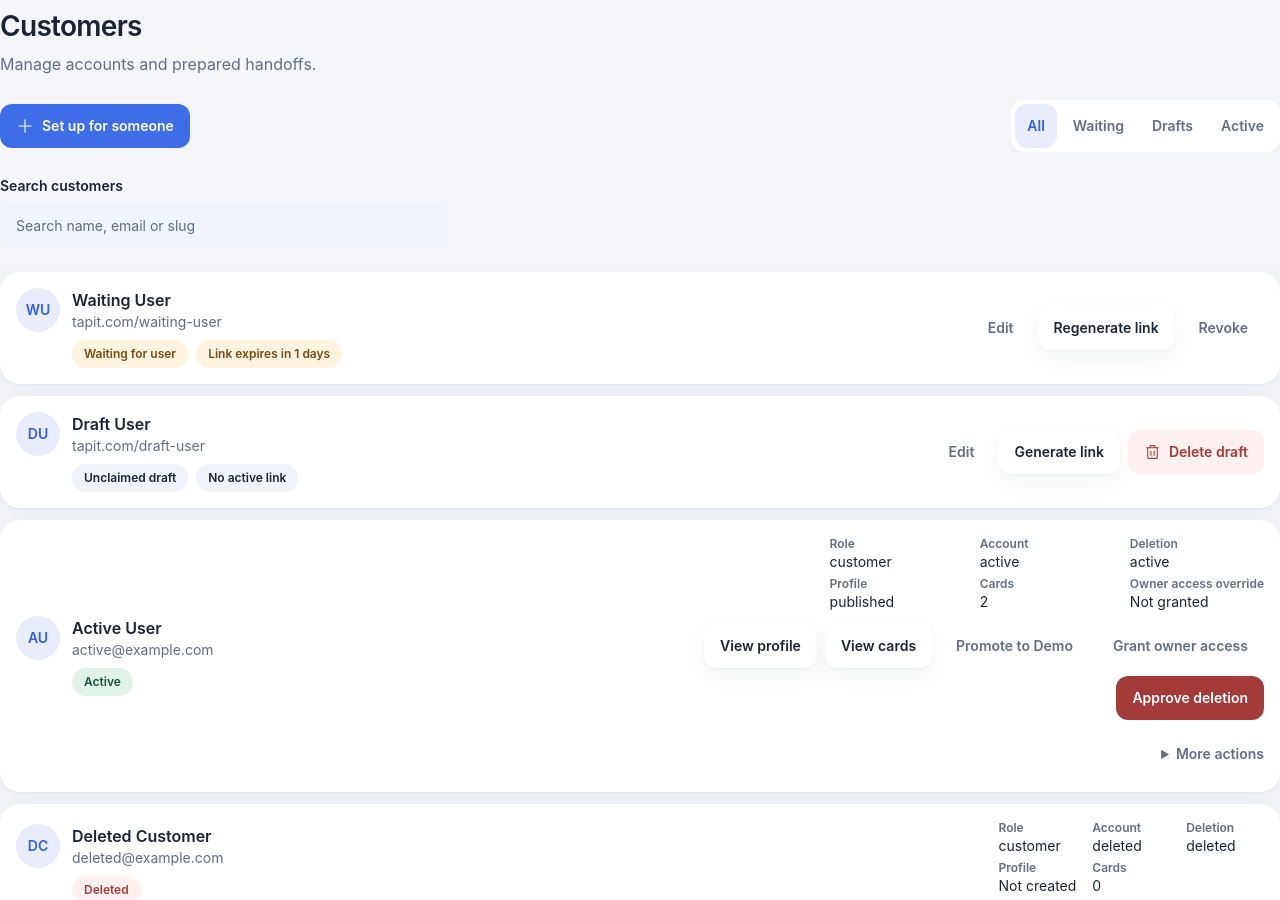
Test: prepared admin interactions › applies waiting, draft, all, and search to the shared list
The width and height of the screenshot is (1280, 900).
Click the button "Waiting" at (1098, 126), box [1061, 104, 1136, 148]
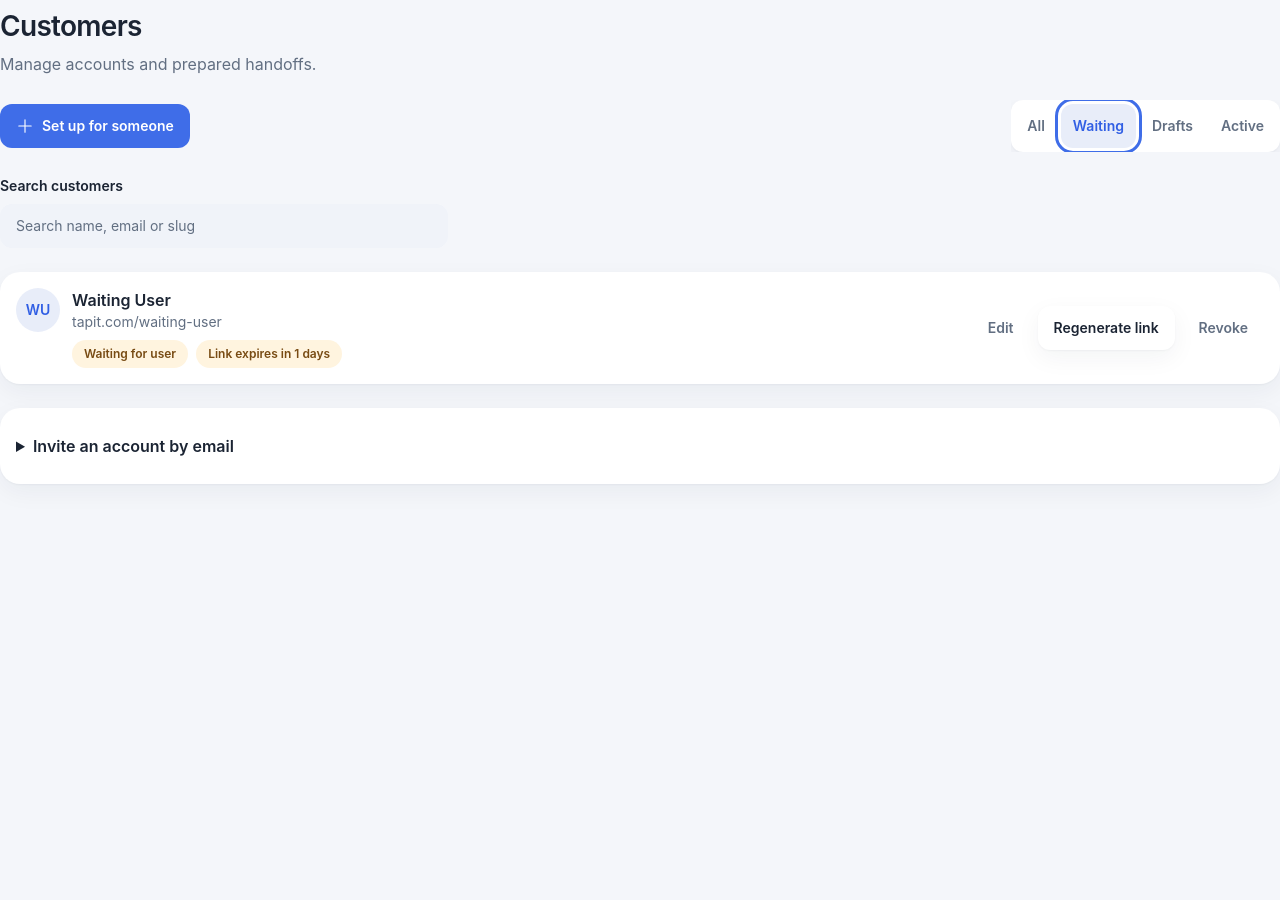
expect the text "Waiting User" is shown: met, box [72, 290, 171, 310]
expect the text "Draft User" is gone: met
Click the button "Drafts" at (1172, 126), box [1140, 104, 1205, 148]
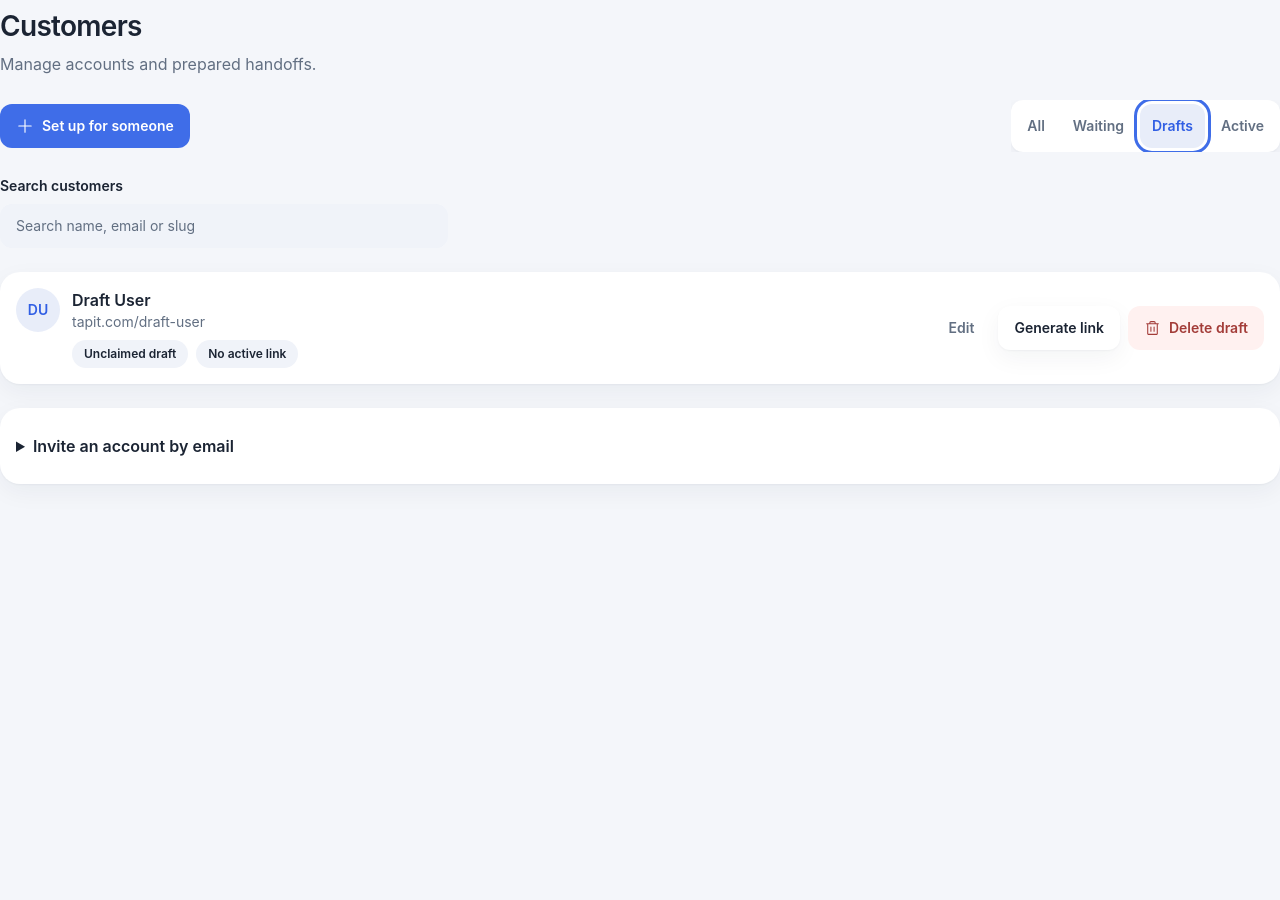
expect the text "Active User" is not shown: met
expect the text "Draft User" is shown: met, box [72, 290, 151, 310]
Click the button "All" at (1036, 126), box [1015, 104, 1057, 148]
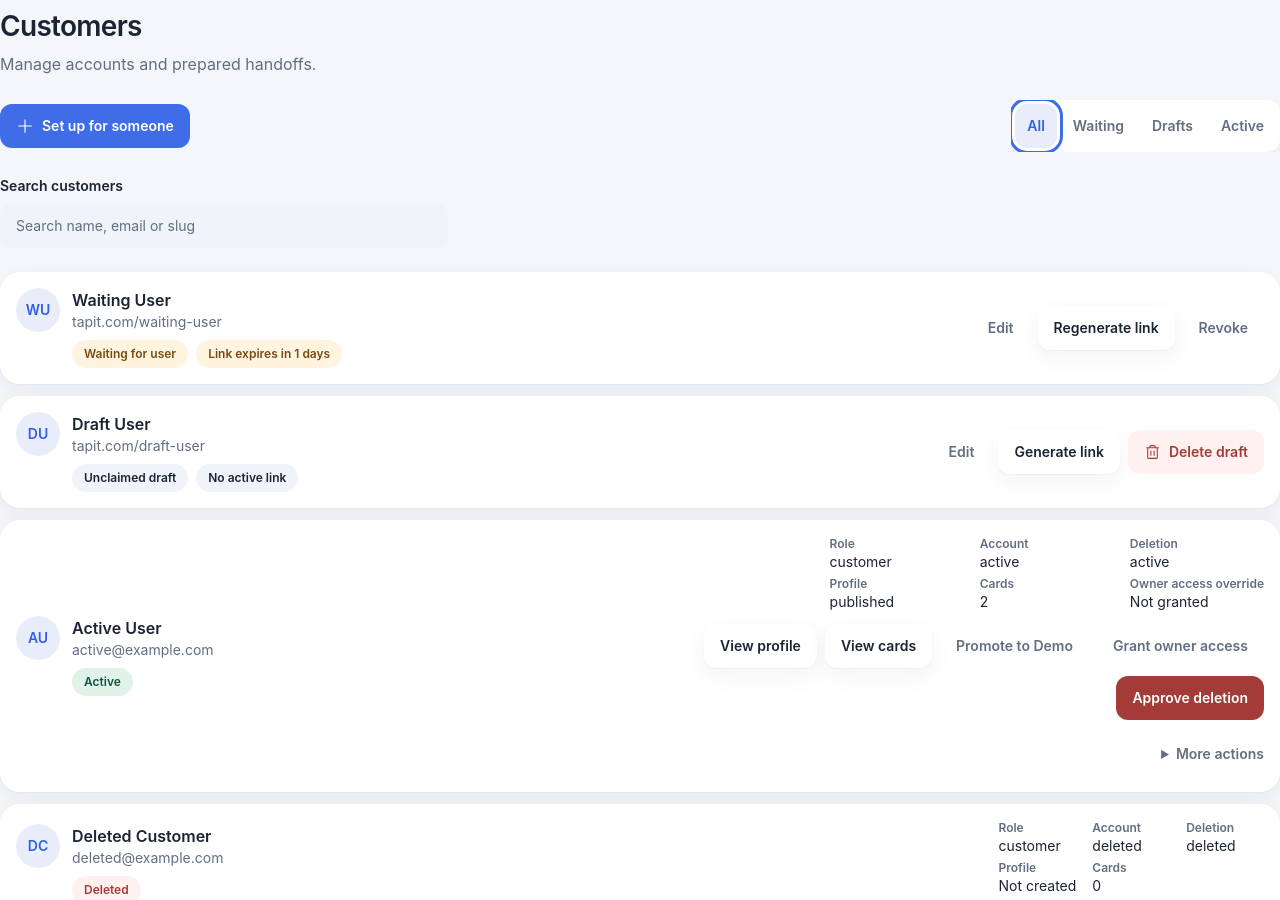
Type "ACTIVE@EXAMPLE" into the search field at (224, 226), box [0, 204, 448, 248]
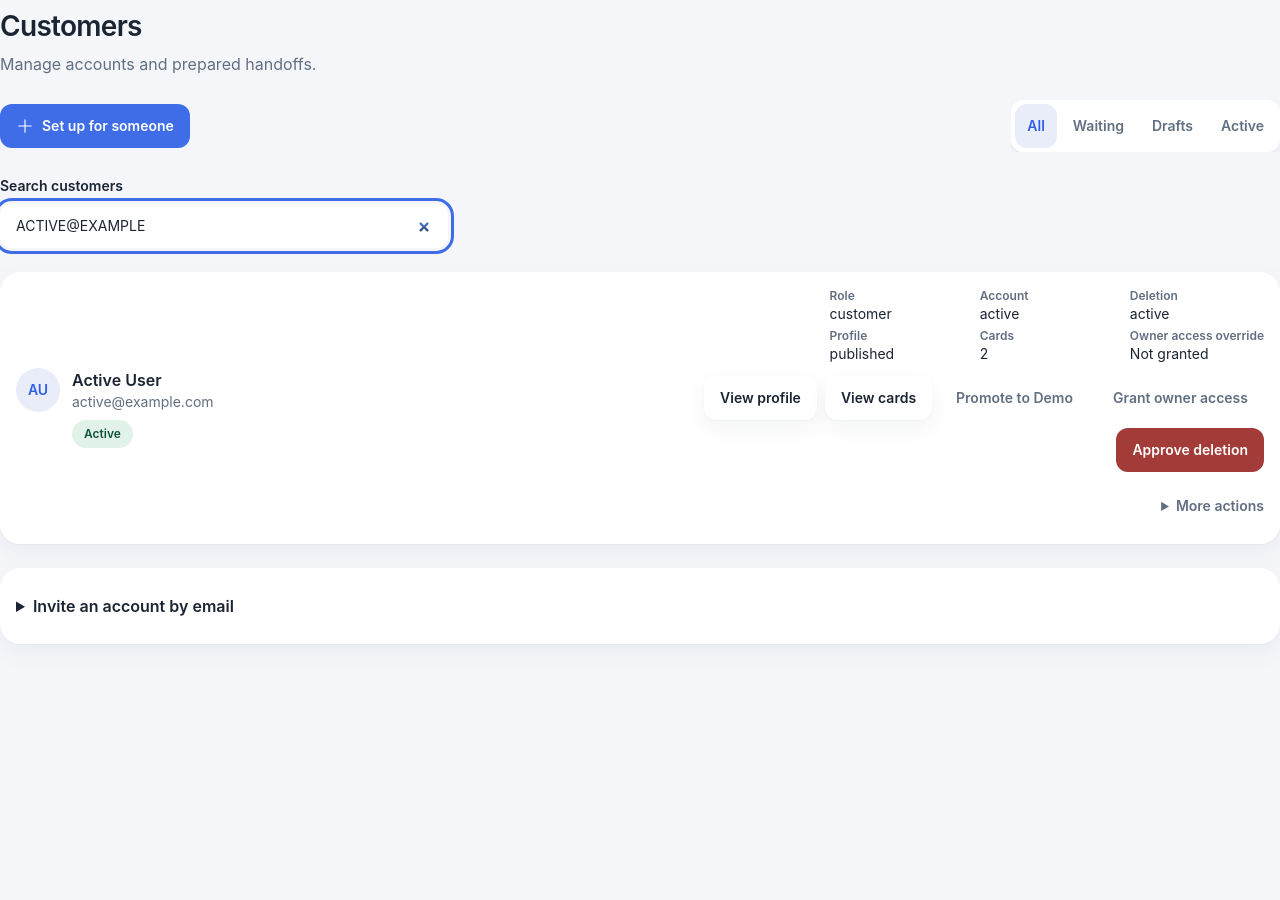
expect the text "Active User" is shown: met, box [72, 370, 162, 390]
expect the text "Waiting User" is gone: met
